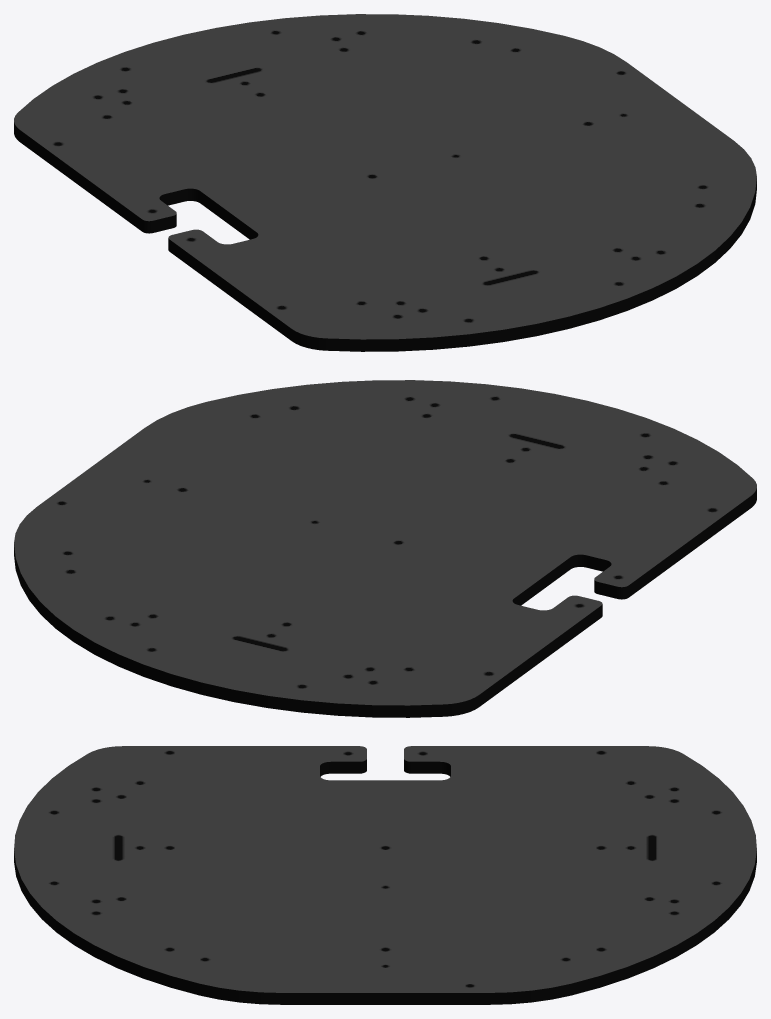
The model's file is plate_bottom.dae.
3 renders of one model, top to bottom at view 1: azimuth 30°, elevation 25°; view 2: azimuth 150°, elevation 25°; view 3: azimuth 270°, elevation 25°, orthographic. The views are drawn at different scales.
Visible parts, largest first — view 1: Jupiterobot Circles Bottom; view 2: Jupiterobot Circles Bottom; view 3: Jupiterobot Circles Bottom.
Boxes of the visible parts, x1,y1,x2,y2 form: Jupiterobot Circles Bottom: (14,14,756,351); Jupiterobot Circles Bottom: (14,380,756,717); Jupiterobot Circles Bottom: (14,746,756,1004).
Size of the model in its own units: 267 by 340 by 6.
Materials: 1 (1 with a texture image).
